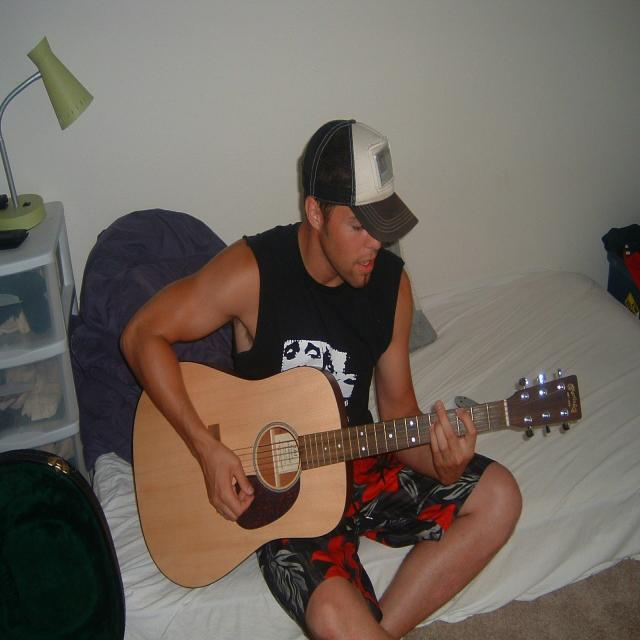guitar: (130, 359, 584, 596)
